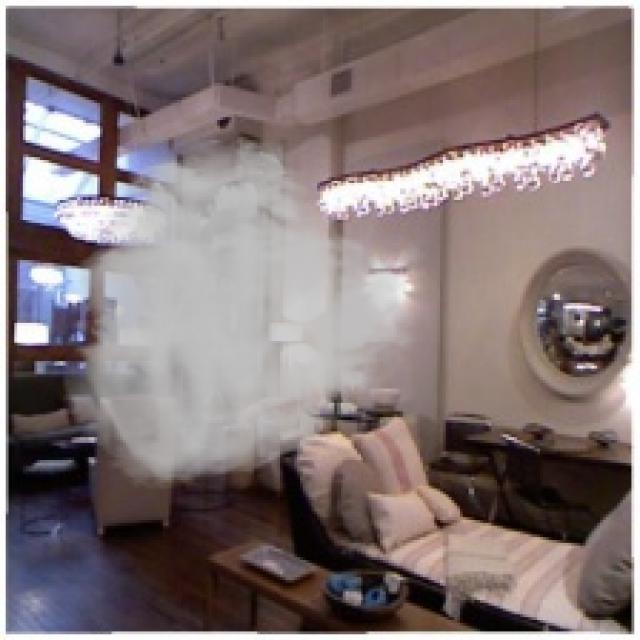Smoke: (60, 134, 429, 492)
